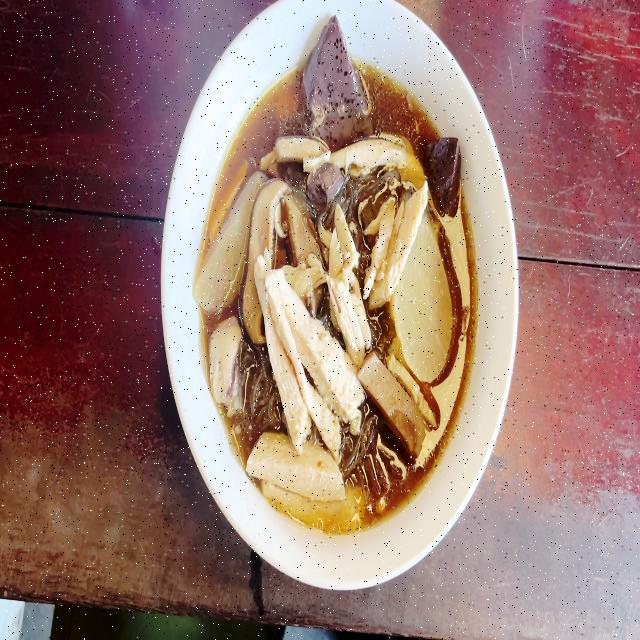boiled_chicken_blood_jelly: (312, 21, 367, 136), (430, 135, 461, 208), (309, 167, 344, 206)
chicken_shredded: (254, 260, 356, 448), (246, 427, 361, 530), (268, 129, 424, 183), (325, 220, 370, 350), (371, 190, 425, 295), (208, 311, 241, 400)
daikon_radish: (197, 169, 244, 316), (402, 254, 454, 382)
noodle: (203, 60, 479, 528)
